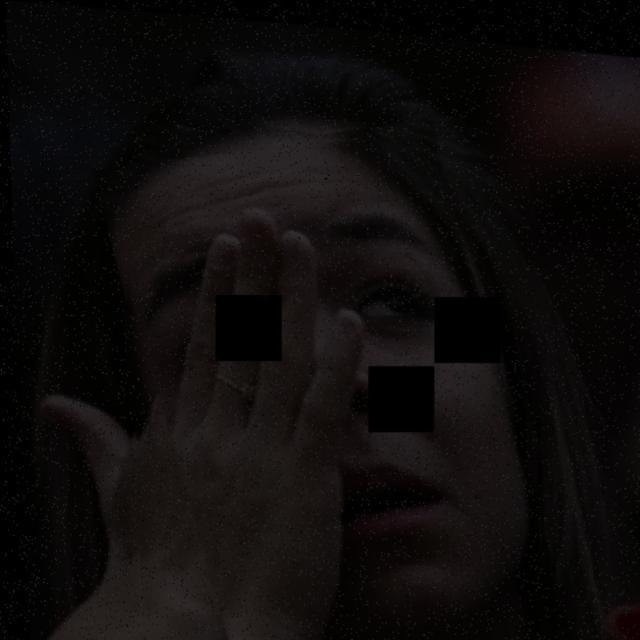Sad: (76, 56, 547, 614)
